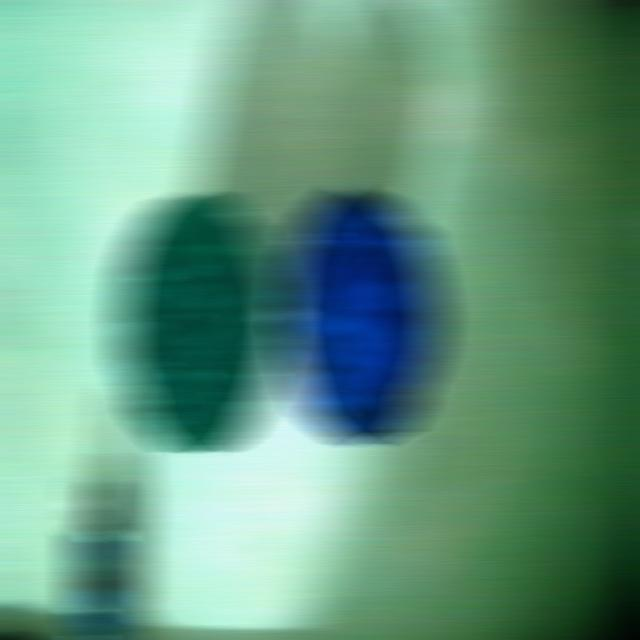blue: (279, 185, 442, 446)
green: (115, 193, 284, 454)
